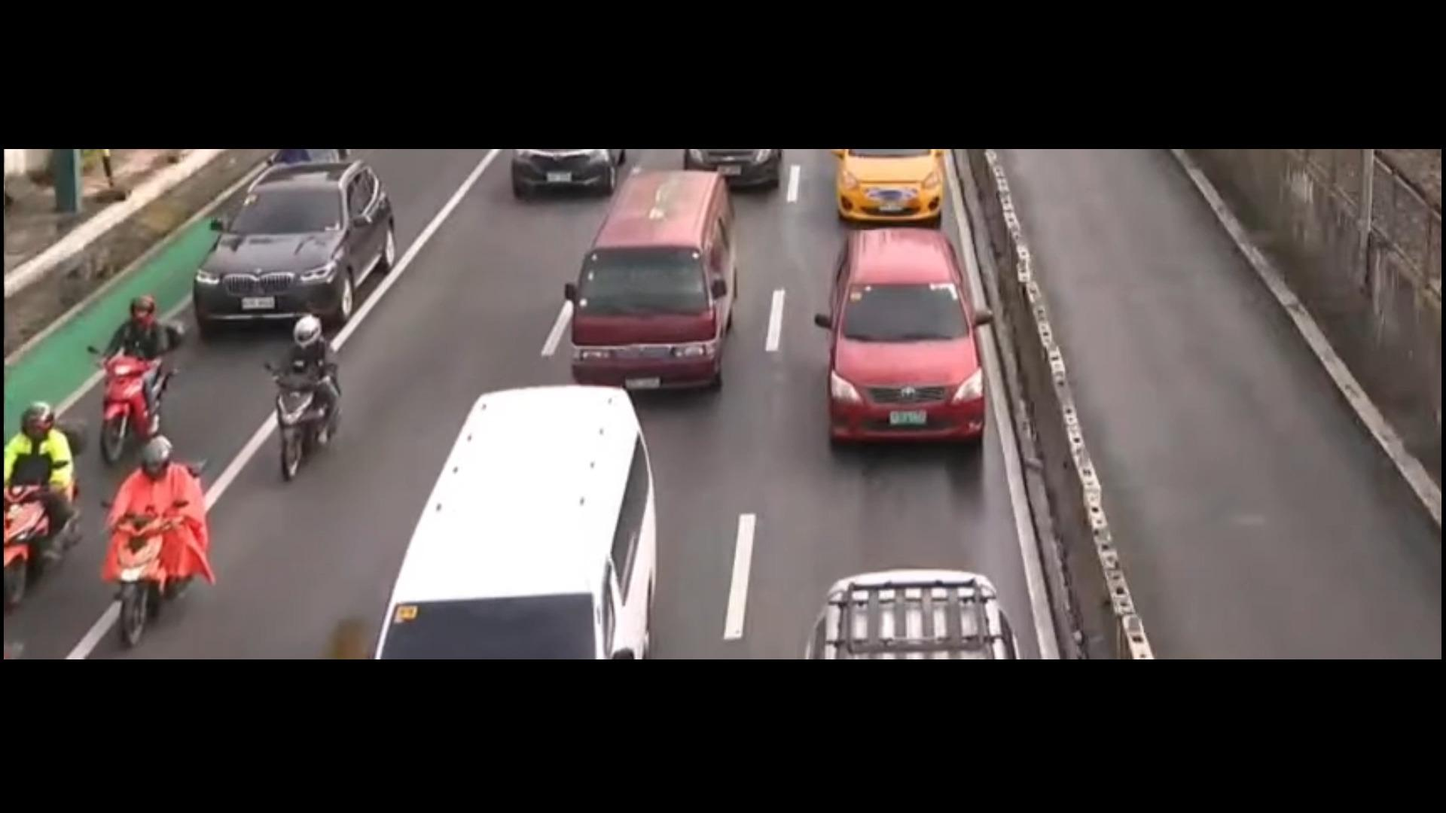Motorcycle: (100, 439, 234, 655), (87, 292, 198, 455), (254, 311, 351, 485), (0, 413, 89, 601)
SUV: (804, 209, 998, 470), (189, 142, 418, 340)
Van: (359, 369, 676, 664), (554, 157, 761, 401)
